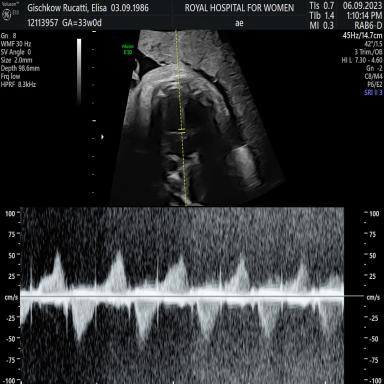Ultrasound-Waves: (26, 209, 342, 384)
